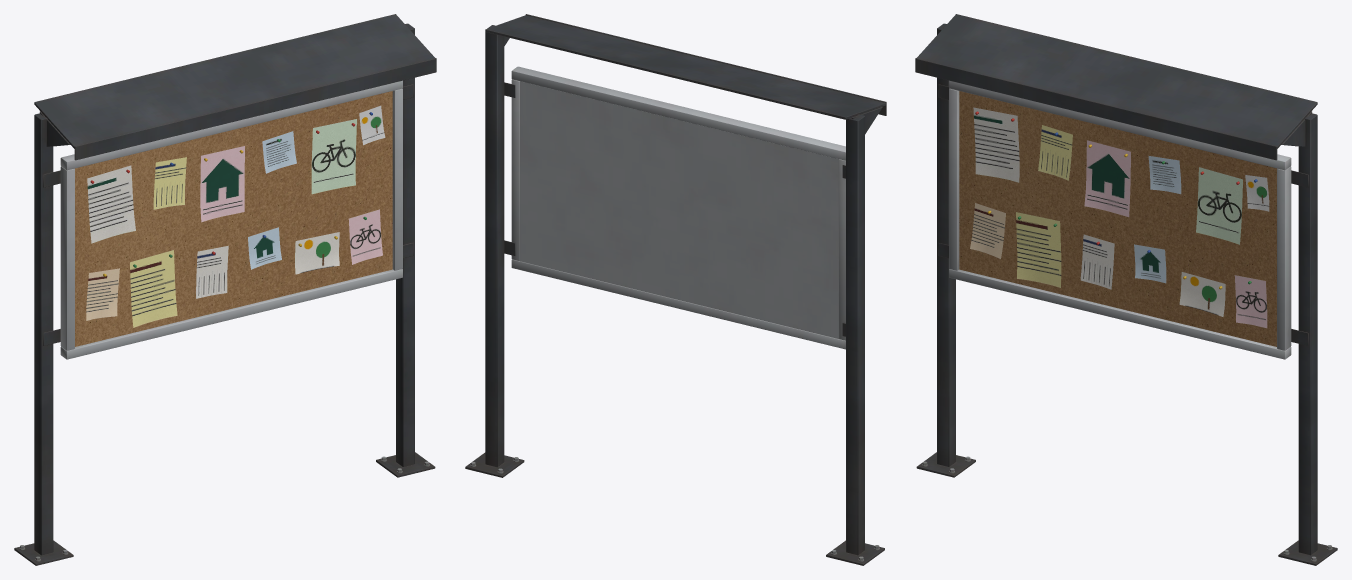
File: notice_board.glb
3 views of the same model, side by side, from view 1: azimuth 30°, elevation 25°; view 2: azimuth 150°, elevation 25°; view 3: azimuth 330°, elevation 25° (orthographic).
Parts seen in each view (by area): view 1: notice-board_body, notice-board_cork_face, notice-board_notes; view 2: notice-board_body; view 3: notice-board_body, notice-board_cork_face, notice-board_notes.
Boxes of the visible parts, bbox=[...] form: notice-board_body: bbox=[14, 14, 436, 565]; notice-board_cork_face: bbox=[75, 91, 392, 346]; notice-board_notes: bbox=[86, 105, 385, 327]; notice-board_body: bbox=[465, 14, 886, 565]; notice-board_body: bbox=[915, 14, 1337, 565]; notice-board_cork_face: bbox=[959, 91, 1276, 346]; notice-board_notes: bbox=[970, 107, 1269, 328].
Bounding box in the file's own units: 1.9 × 2.02 × 0.349.
Materials: 3 (3 with a texture image).
